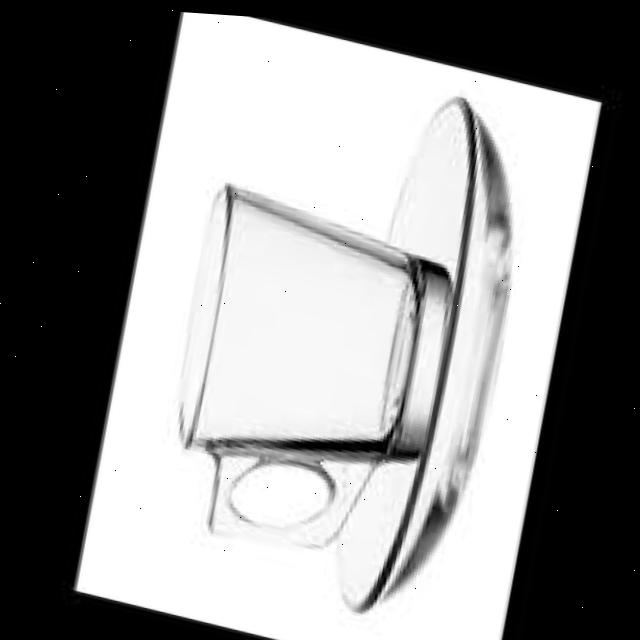Dry: (138, 30, 541, 635)
